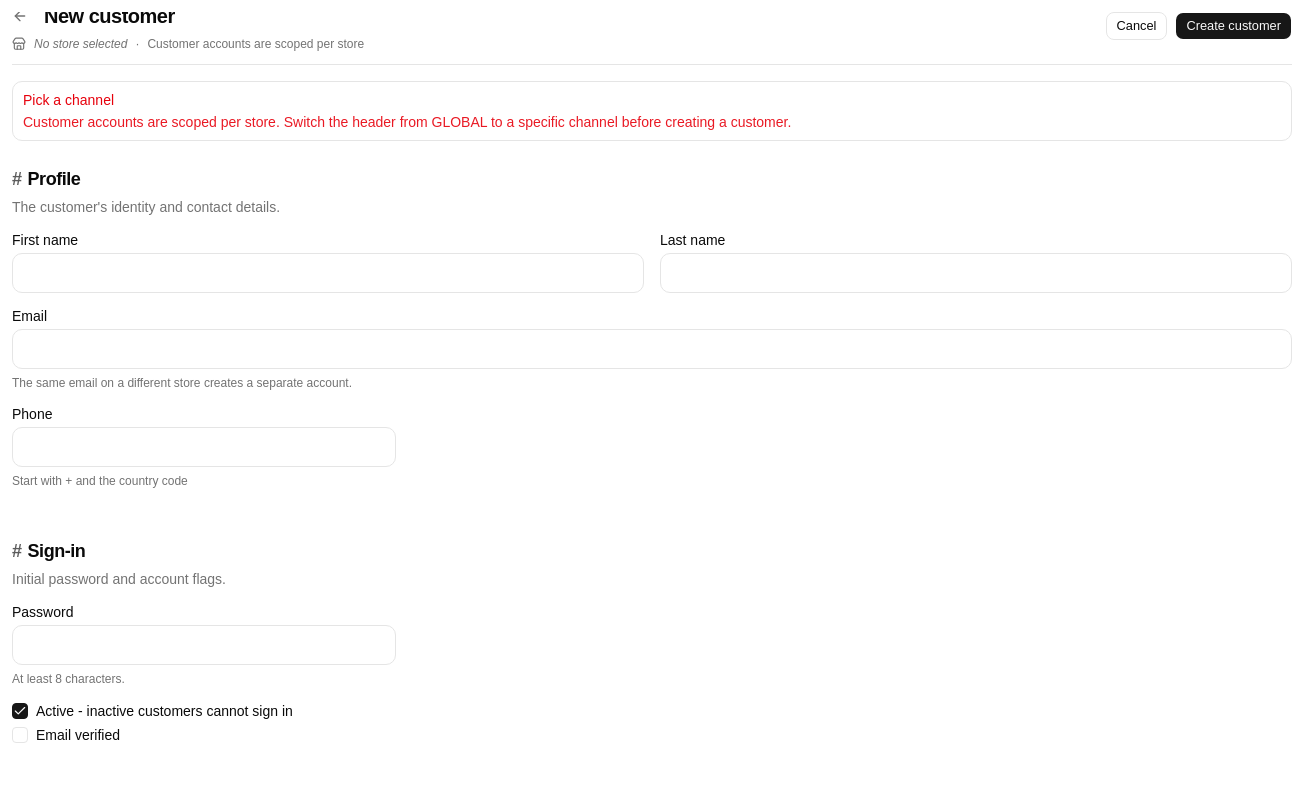
it: CustomerCreate › refuses to create without a channel in scope
This screenshot has width=1304, height=796.
Type "Ada" into the field labelled "First name" at (328, 273), box [12,253,644,293]
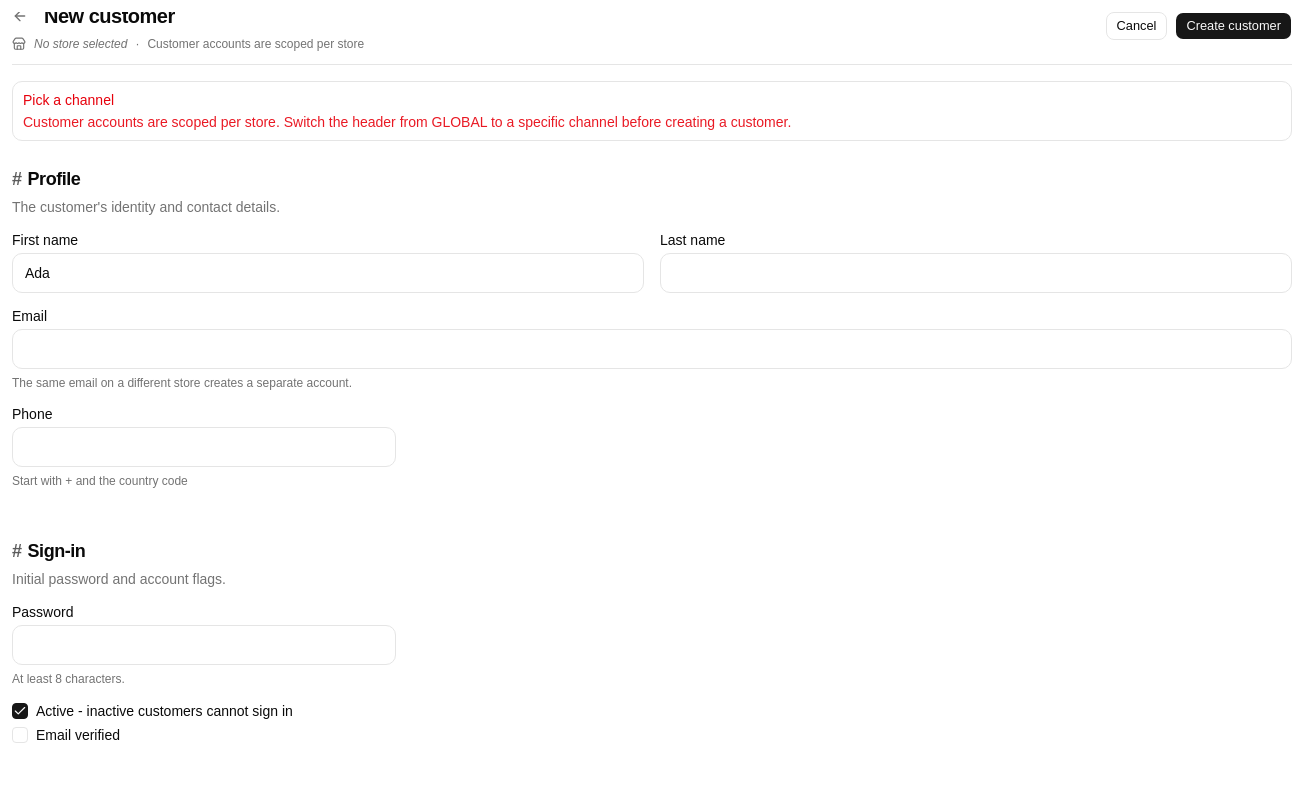
Type "Lovelace" into the field labelled "Last name" at (976, 273), box [660,253,1292,293]
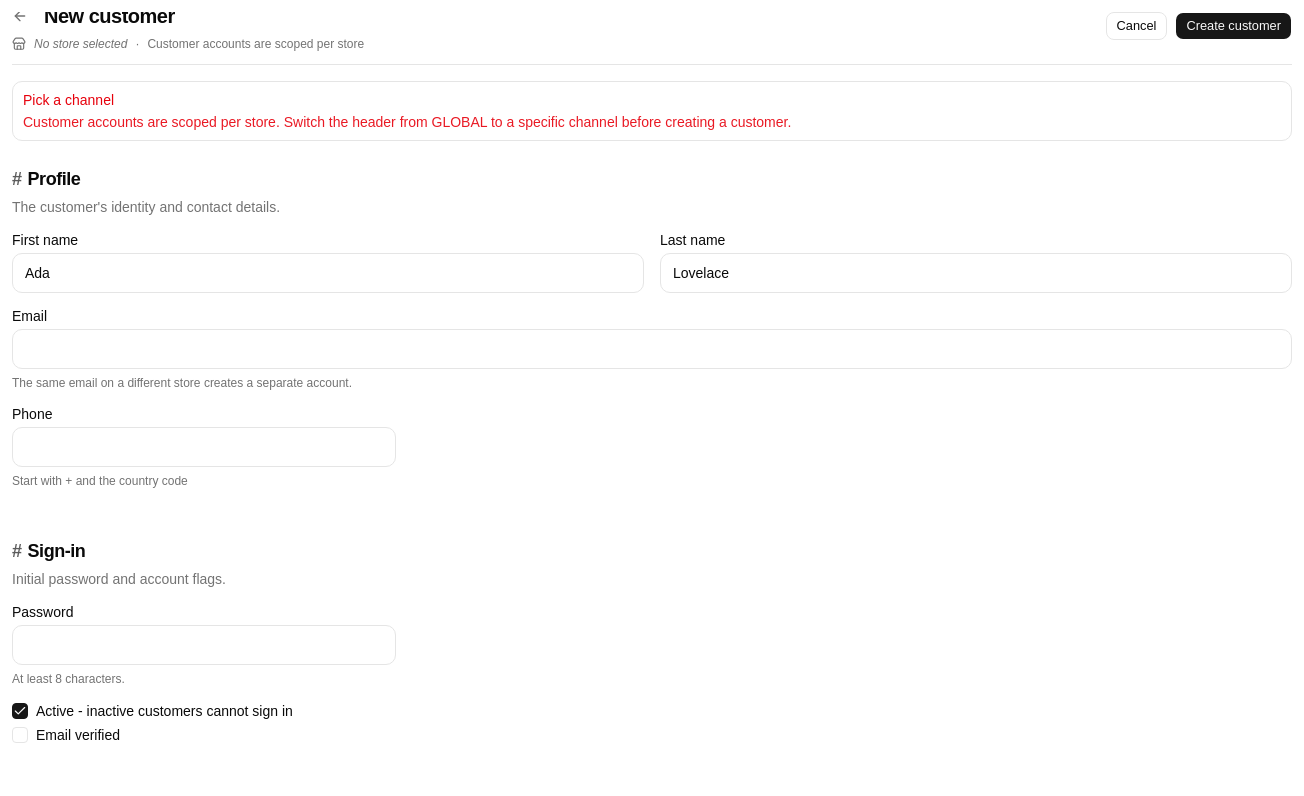
Type "ada@example.com" into the field labelled "Email" at (652, 349), box [12,329,1292,369]
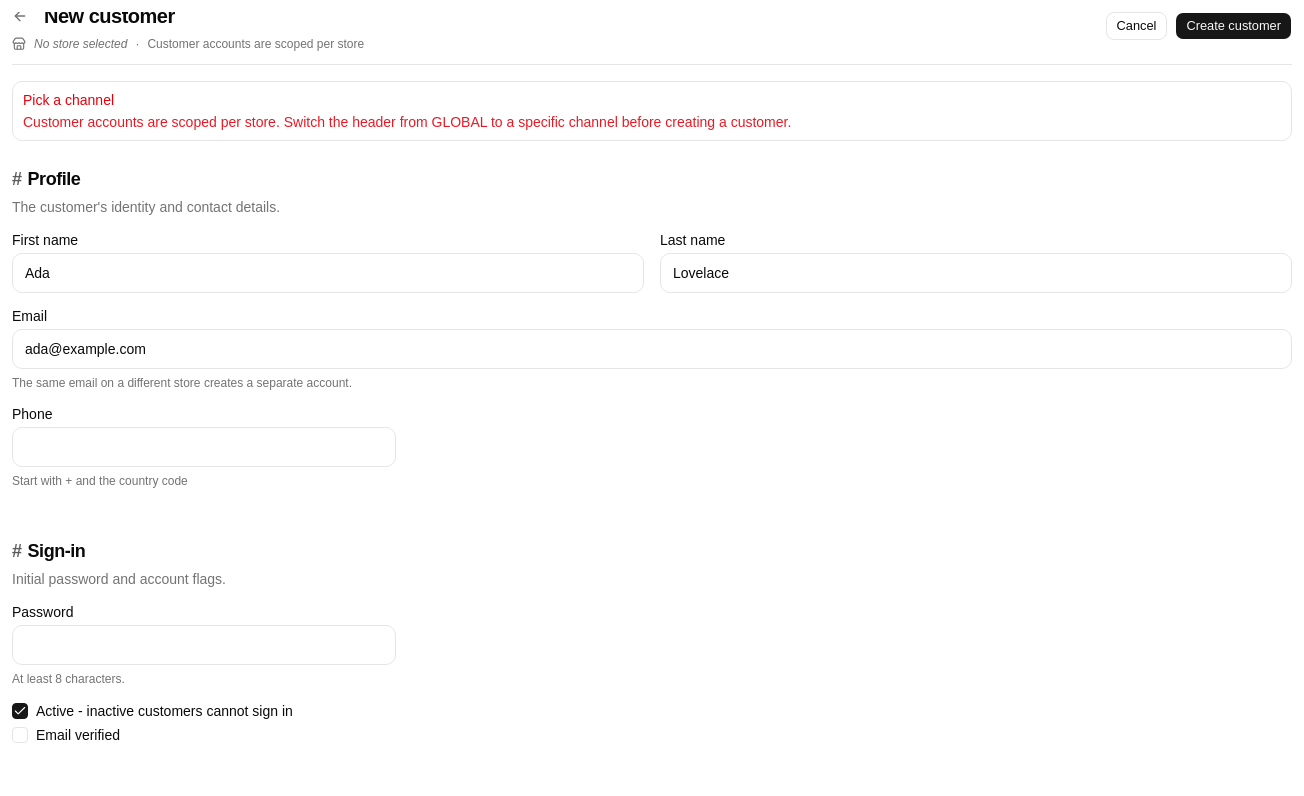
Type "correct horse" into the password field labelled "Password" at (204, 645), box [12,625,396,665]
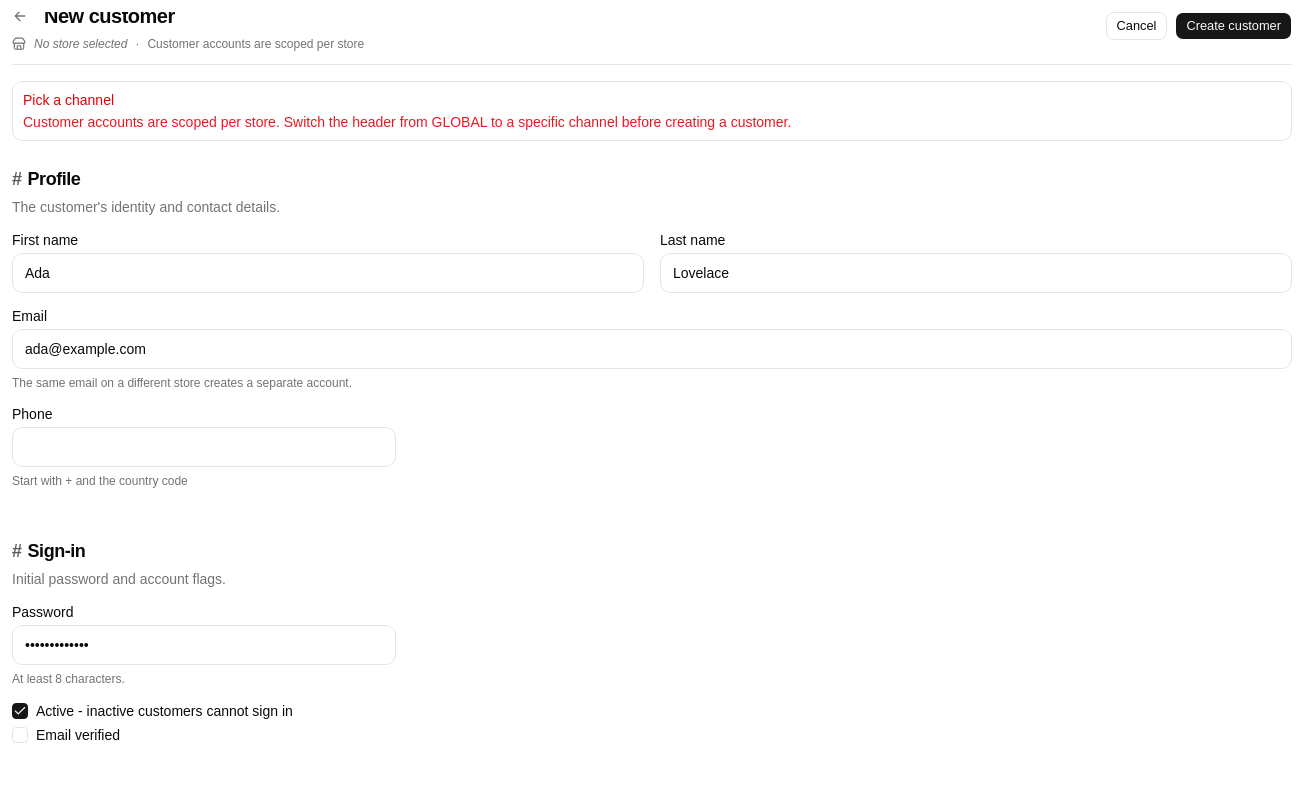
Click the button "Create customer" at (1234, 26), box [1175,12,1292,40]
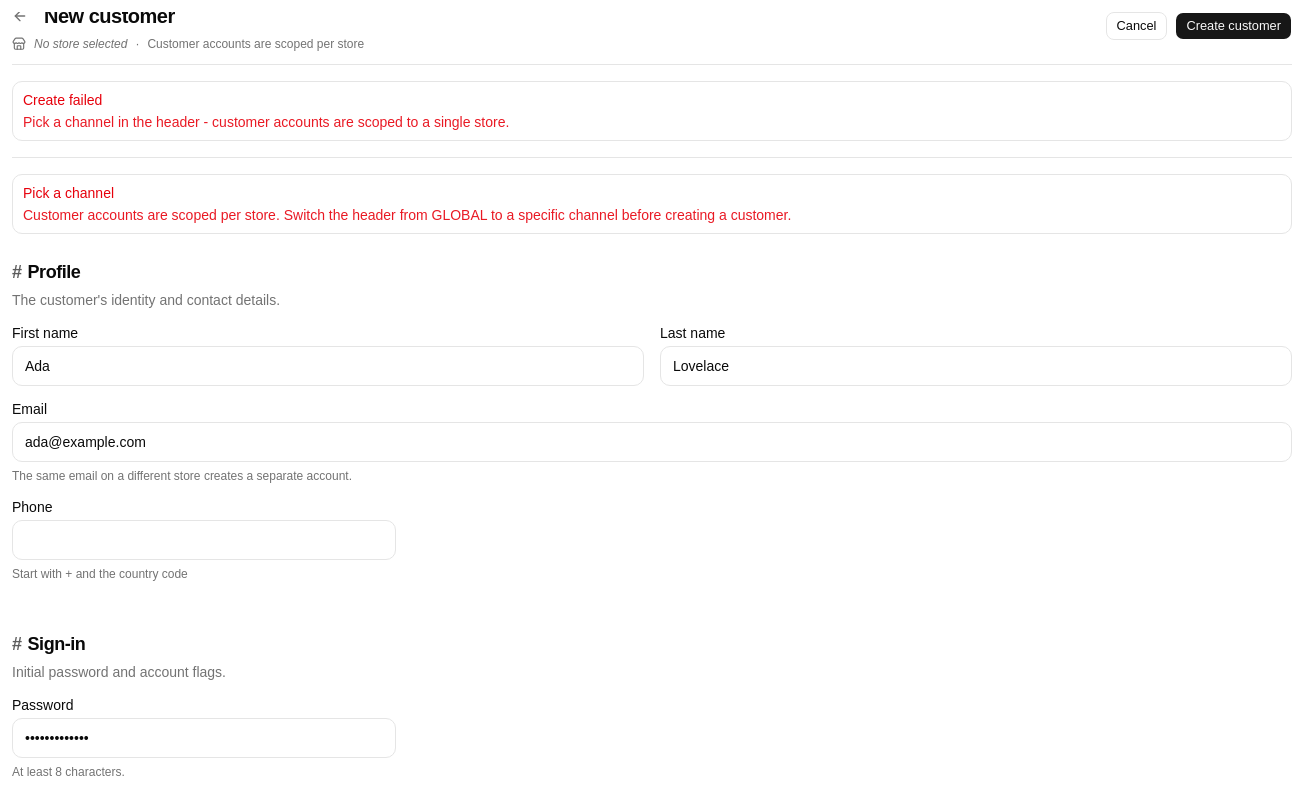
Expected: the text "Pick a channel in the header" is shown, [23,114,509,130]
